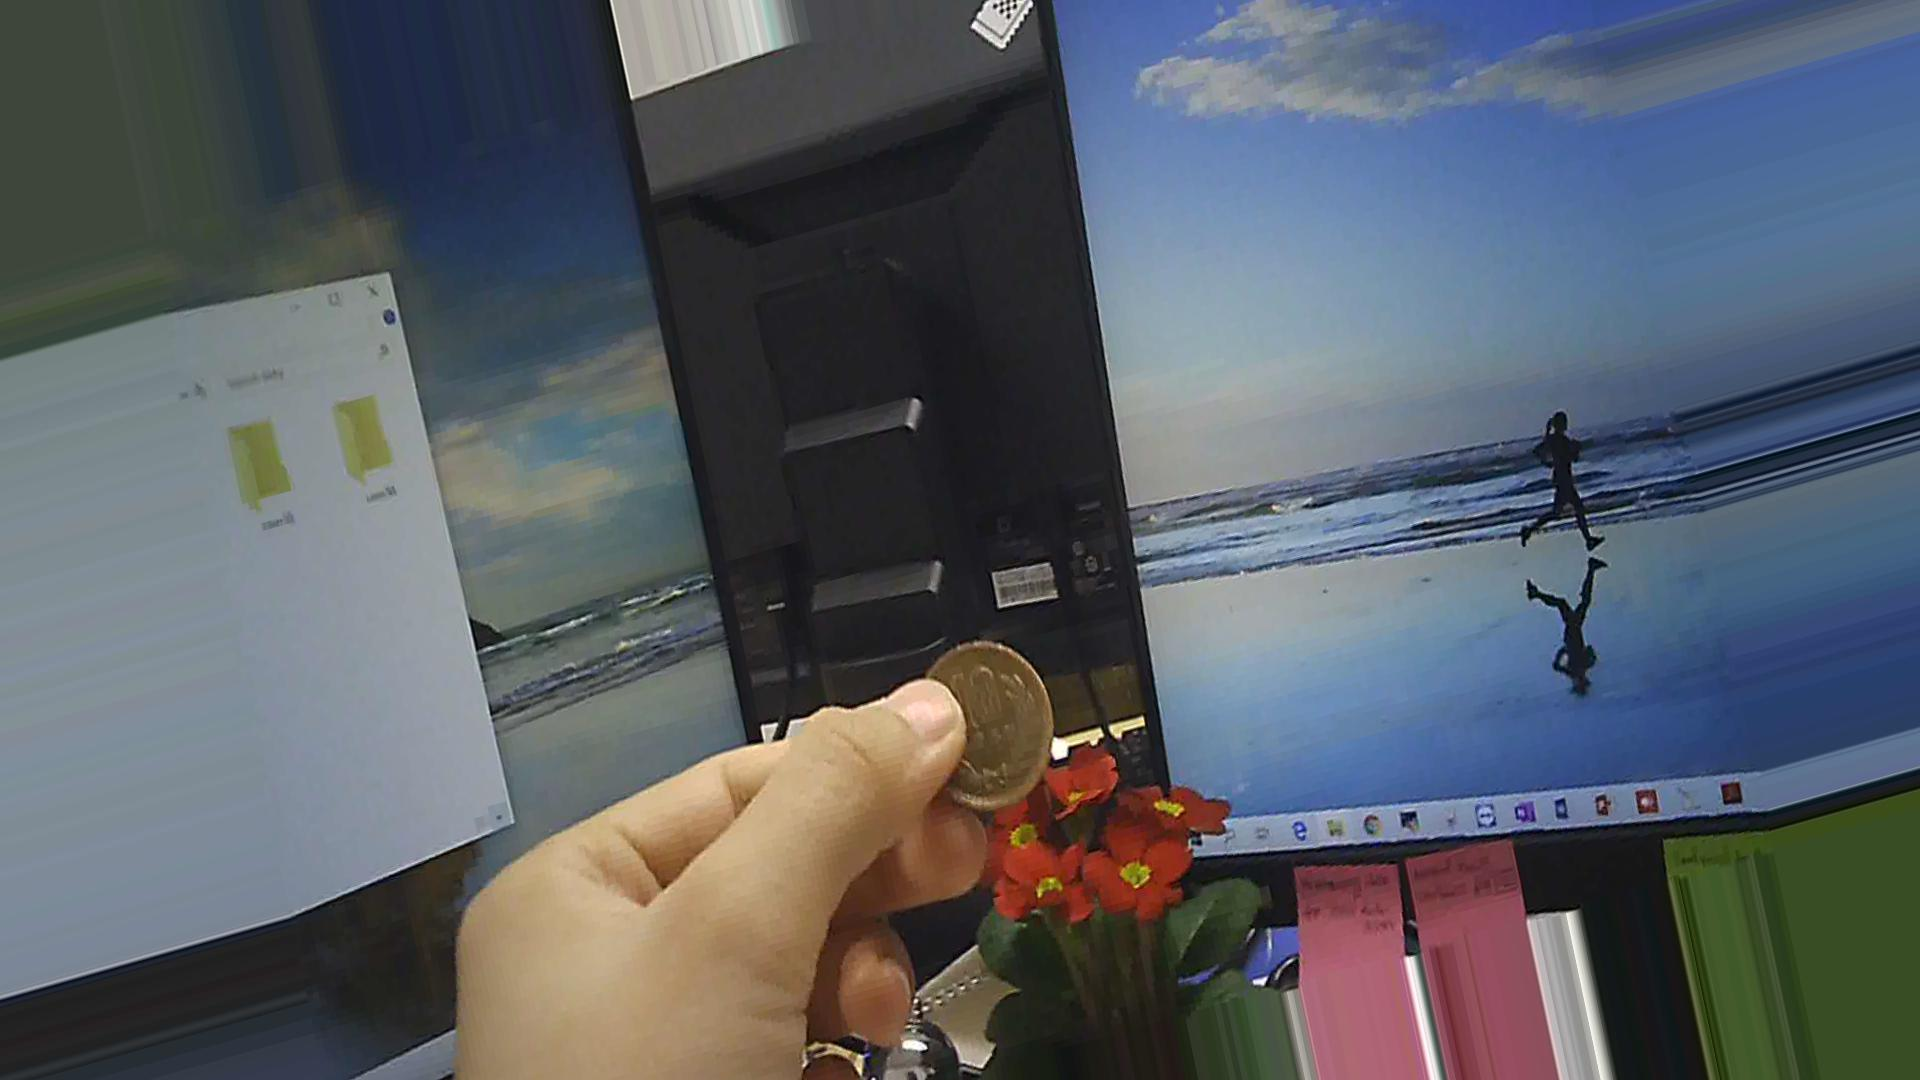10 Yen: (899, 632, 1065, 806)
